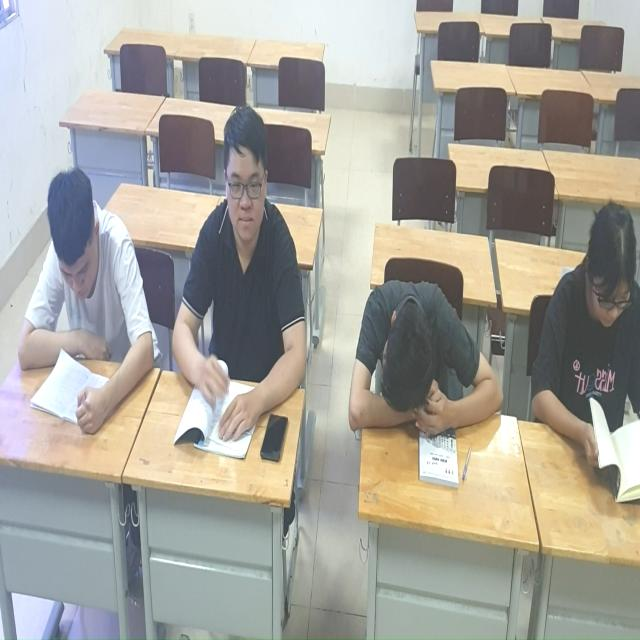read: (167, 79, 305, 445), (7, 156, 156, 438), (514, 204, 640, 502)
sleep: (346, 269, 503, 468)
